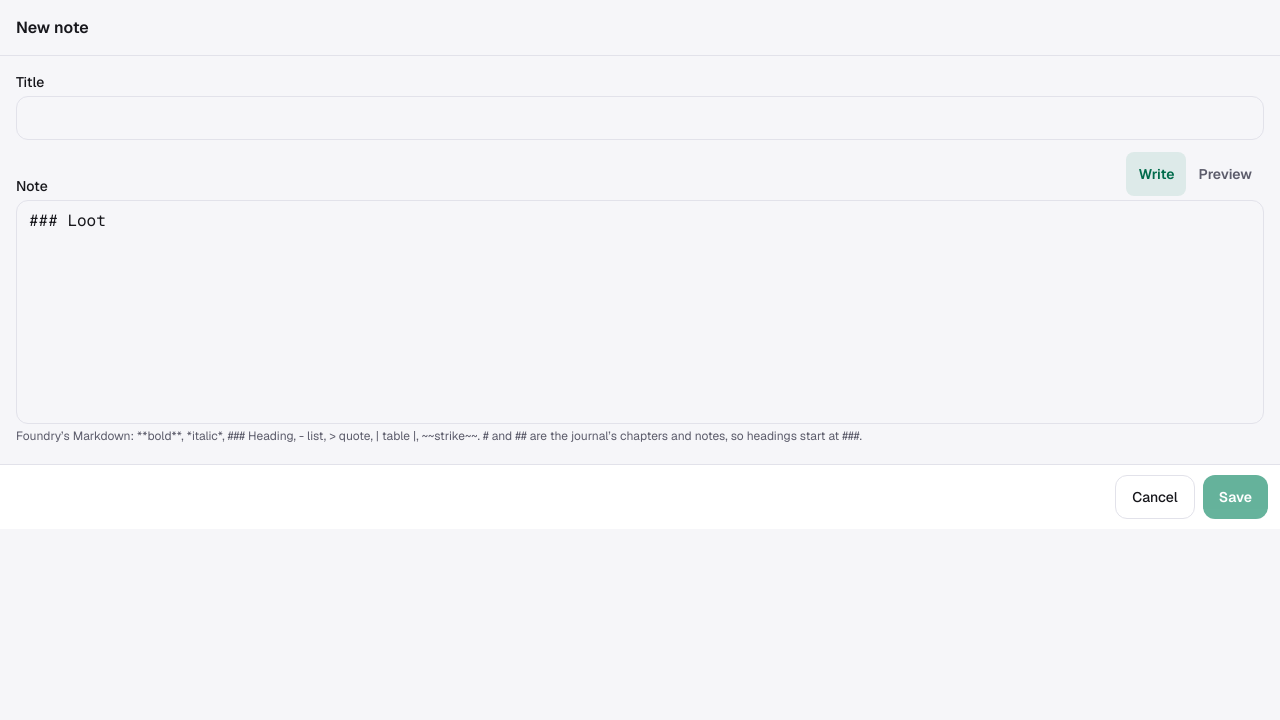
Test case: components/notes/note-editor › says so where the preview can’t be loaded, and that the text is kept
Click the tab "Preview" at (1225, 174), box [1186,152,1264,196]
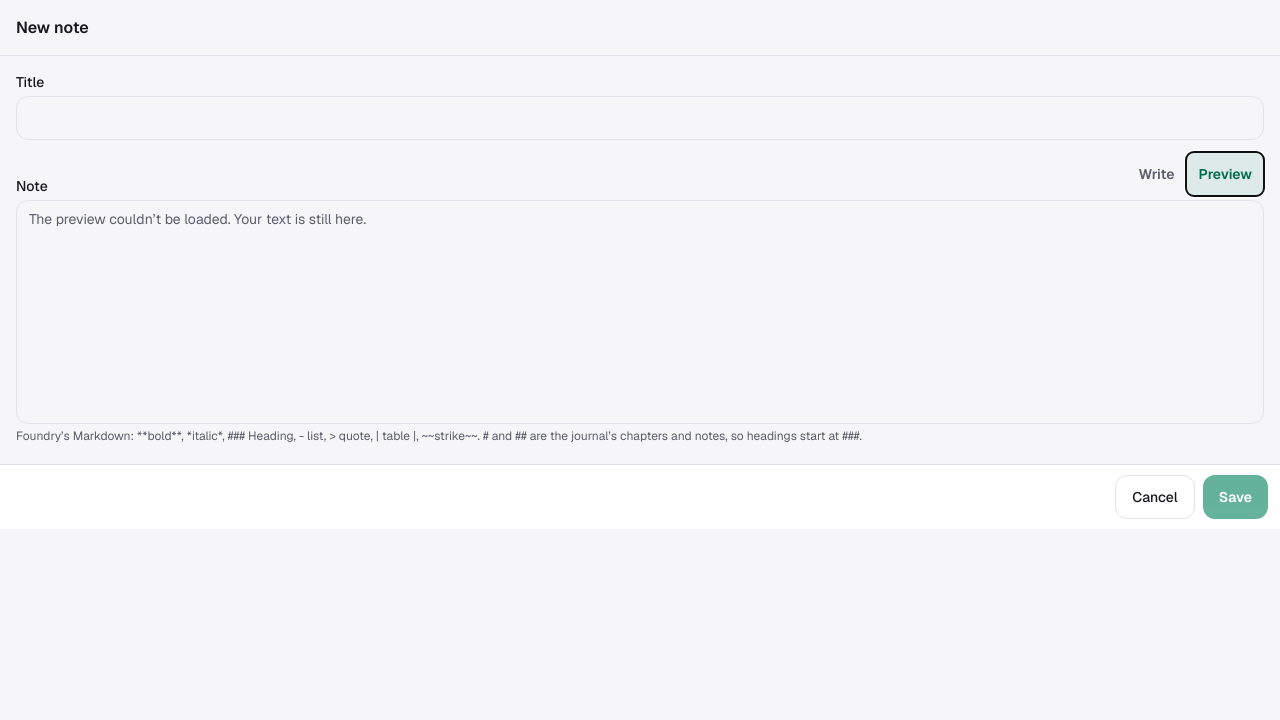
Now the text "The preview couldn’t be loaded. Your text is still here." is shown, box [29,210,366,228]
